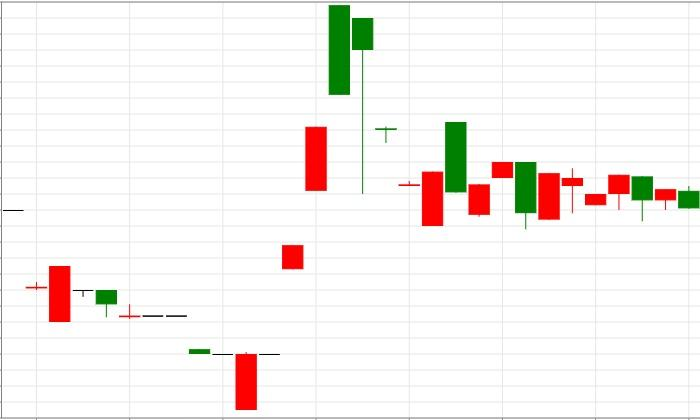hanging_man_fall: (235, 4, 374, 411)
